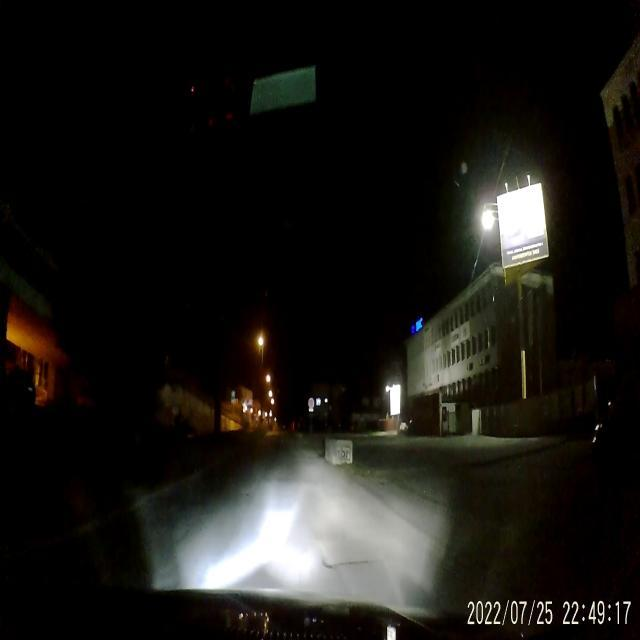Pothole: (322, 552, 367, 572)
